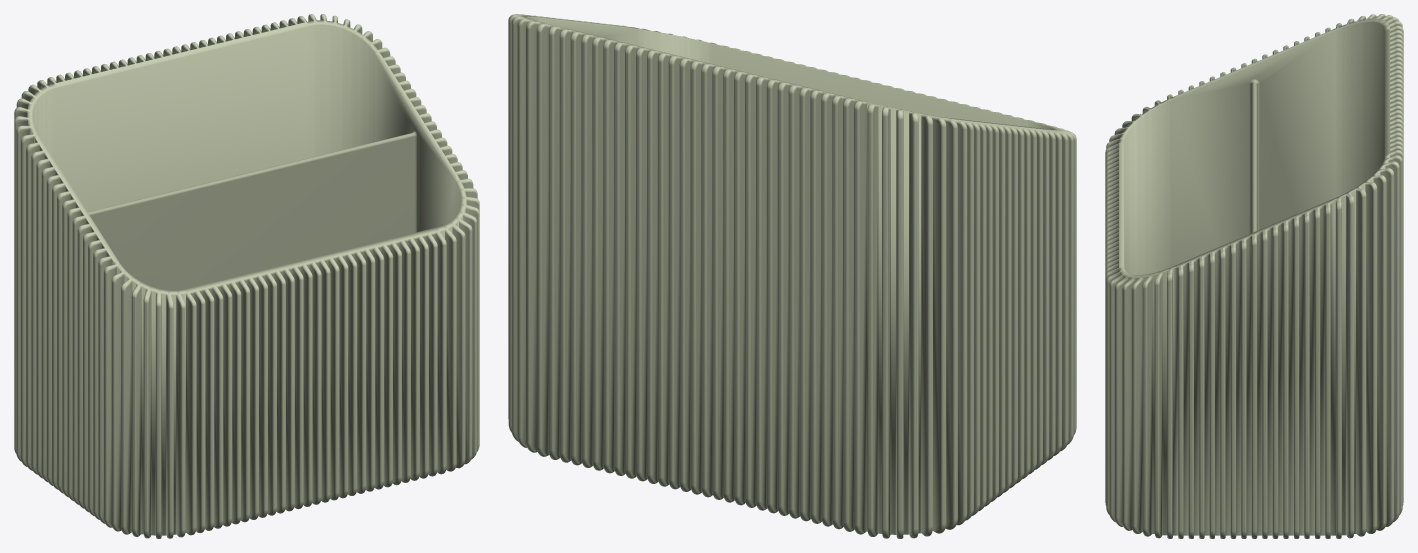
File: kumanda-kutusu.glb
The picture shows the model from 3 angles, left to right: view 1: azimuth 30°, elevation 25°; view 2: azimuth 150°, elevation 25°; view 3: azimuth 270°, elevation 25°; orthographic projection. The views are drawn at different scales.
Visible parts, largest first — view 1: Body; view 2: Body; view 3: Body.
Boxes of the visible parts, bbox=[...] form: Body: bbox=[14, 14, 479, 538]; Body: bbox=[508, 14, 1076, 538]; Body: bbox=[1105, 14, 1403, 538].
Bounding box in the file's own units: 0.16 × 0.1472 × 0.11.
